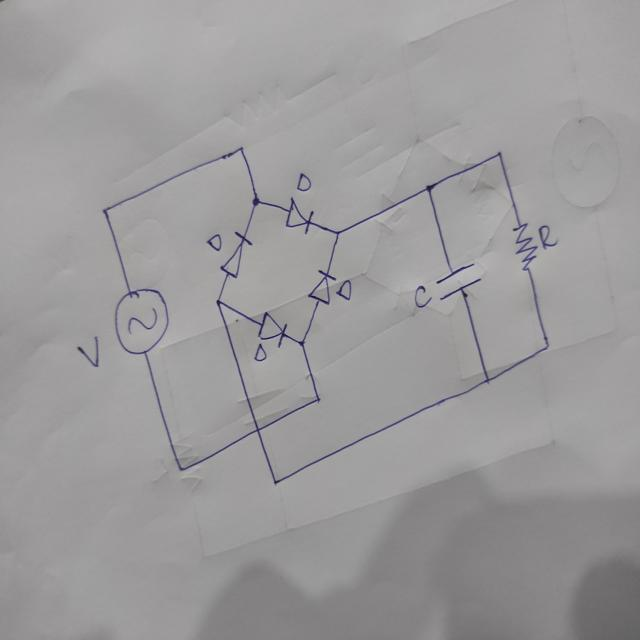capacitor: (435, 260, 482, 301)
crossover: (250, 421, 264, 437)
diode: (219, 228, 253, 280), (283, 195, 316, 235), (306, 266, 339, 305), (256, 310, 288, 348)
junction: (234, 143, 247, 157), (250, 193, 261, 209), (99, 203, 111, 217), (311, 390, 323, 404), (423, 181, 434, 196), (174, 462, 186, 475), (494, 147, 504, 160), (214, 294, 223, 308), (332, 227, 342, 239), (297, 337, 306, 349), (482, 374, 492, 384), (542, 340, 551, 351), (270, 476, 280, 485)
resistor: (511, 221, 538, 270)
source: (110, 287, 170, 355)
text: (75, 333, 101, 368), (537, 222, 559, 250), (334, 278, 353, 302), (414, 284, 432, 308), (295, 171, 312, 192), (206, 231, 222, 252), (252, 342, 268, 362)
